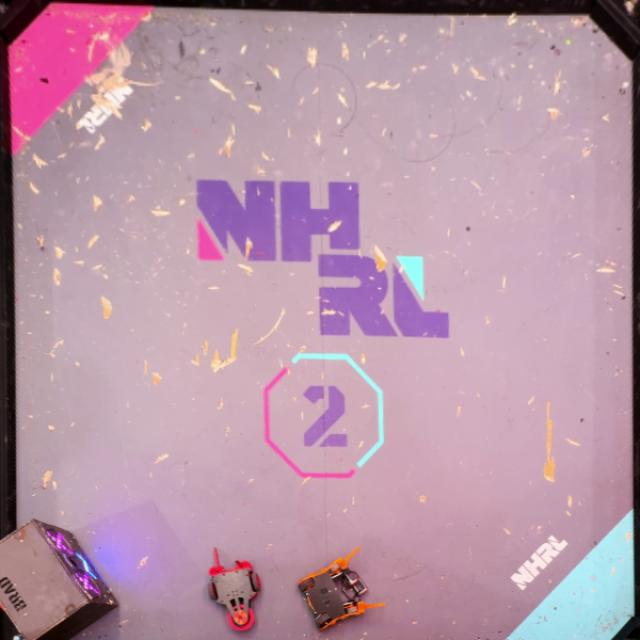housebot: (0, 518, 122, 640)
robot: (299, 545, 387, 632), (208, 546, 260, 634)
